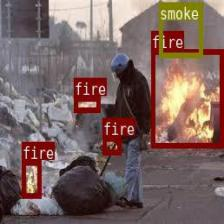fire: (151, 49, 222, 146), (22, 159, 41, 197), (73, 96, 100, 112), (102, 136, 120, 153)
smoke: (158, 1, 202, 57)
